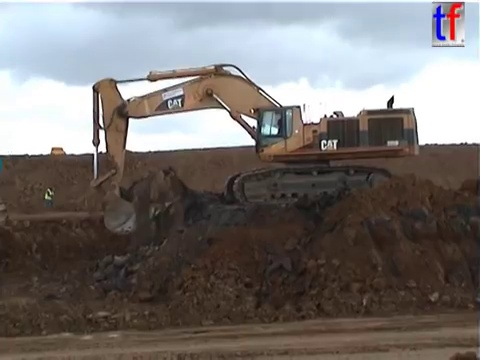excavator: (86, 60, 422, 238)
truck: (48, 145, 66, 161), (1, 202, 10, 232)
worker: (41, 182, 56, 215)
